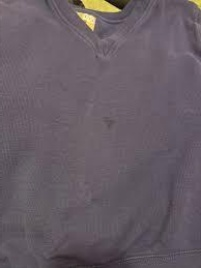oil: (101, 113, 119, 130)
